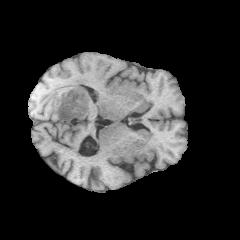glioma: (40, 80, 90, 120)
